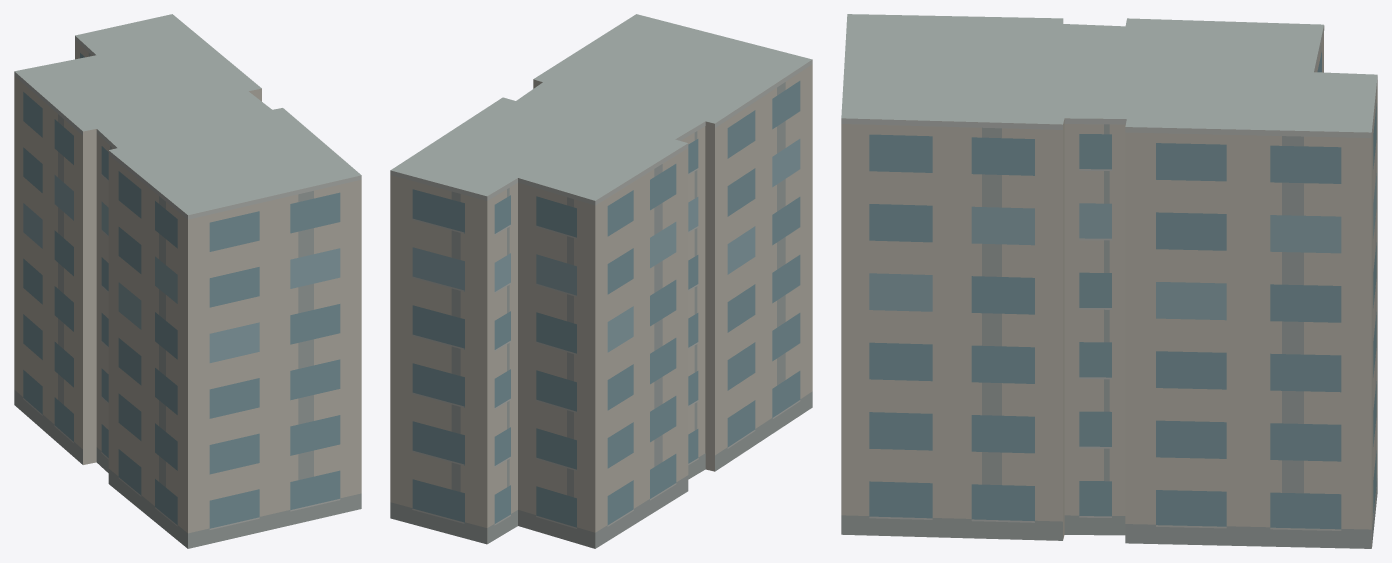
File: survey-upis-32569973.glb
3 views of the same model, side by side, from view 1: azimuth 30°, elevation 25°; view 2: azimuth 150°, elevation 25°; view 3: azimuth 270°, elevation 25° (orthographic). The views are drawn at different scales.
Visible parts, largest first — view 1: survey-upis-32569973.tmp; view 2: survey-upis-32569973.tmp; view 3: survey-upis-32569973.tmp.
Boxes of the visible parts, box(x1,y1,x2,y2) form: survey-upis-32569973.tmp: box(14, 14, 361, 548); survey-upis-32569973.tmp: box(390, 14, 812, 548); survey-upis-32569973.tmp: box(841, 14, 1377, 548).
Bounding box in the file's own units: 11.18 × 18.3 × 21.38.
